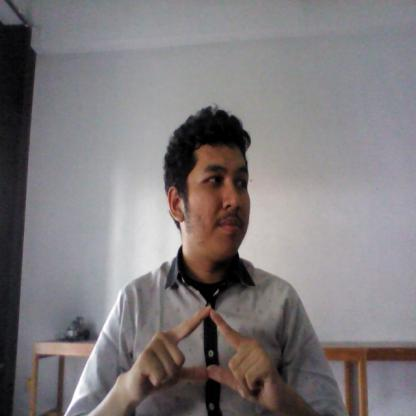A: (130, 304, 279, 403)
